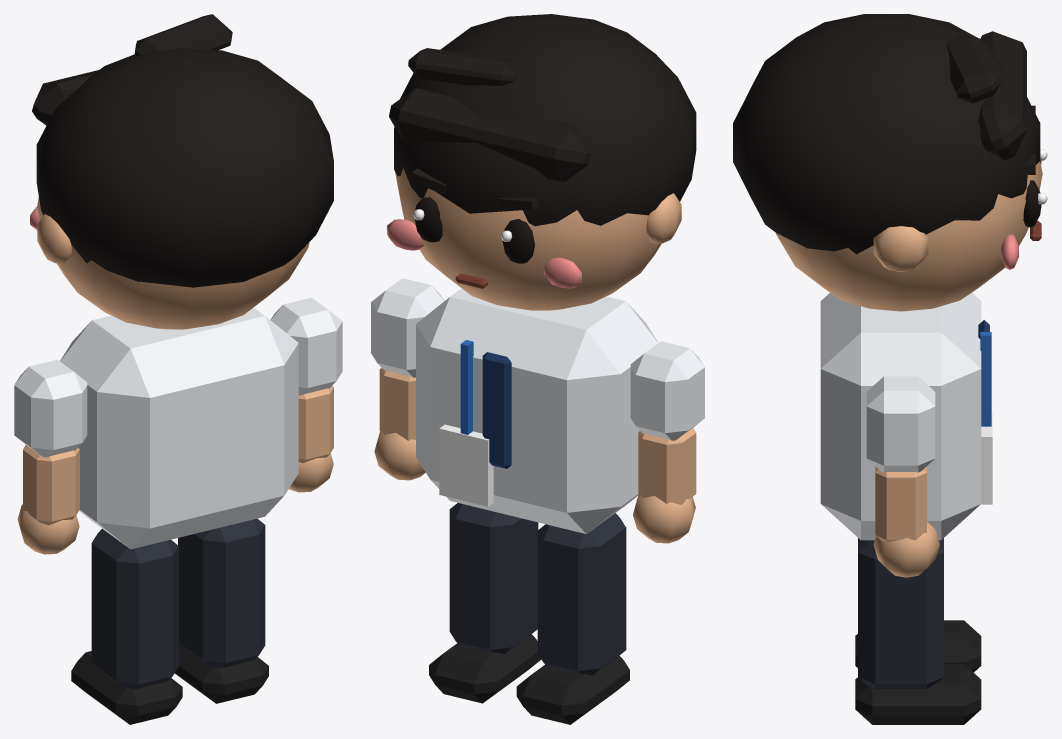
File: office.glb
3 renders of one model, left to right at view 1: azimuth 30°, elevation 25°; view 2: azimuth 150°, elevation 25°; view 3: azimuth 270°, elevation 25°, orthographic. The views are drawn at different scales.
Visible parts, largest first — view 1: HeadMesh, TorsoMesh, LegLMesh, LegRMesh, ArmLMesh, ArmRMesh; view 2: HeadMesh, TorsoMesh, LegLMesh, LegRMesh, ArmLMesh, ArmRMesh; view 3: HeadMesh, TorsoMesh, LegRMesh, ArmRMesh, LegLMesh.
Boxes of the visible parts, x1,y1,x2,y2 form: HeadMesh: (30, 14, 333, 329); TorsoMesh: (60, 307, 298, 549); LegLMesh: (71, 528, 182, 724); LegRMesh: (174, 518, 268, 703); ArmLMesh: (14, 359, 87, 554); ArmRMesh: (270, 297, 342, 492); HeadMesh: (387, 14, 696, 310); TorsoMesh: (416, 288, 658, 533); LegLMesh: (516, 513, 629, 724); LegRMesh: (429, 503, 541, 703); ArmLMesh: (630, 341, 704, 543); ArmRMesh: (371, 278, 444, 480); HeadMesh: (733, 14, 1047, 311); TorsoMesh: (820, 293, 992, 540); LegRMesh: (855, 538, 981, 724); ArmRMesh: (866, 376, 939, 577); LegLMesh: (855, 620, 981, 672).
Size of the model in its own units: 0.65 by 1.28 by 0.5489.
